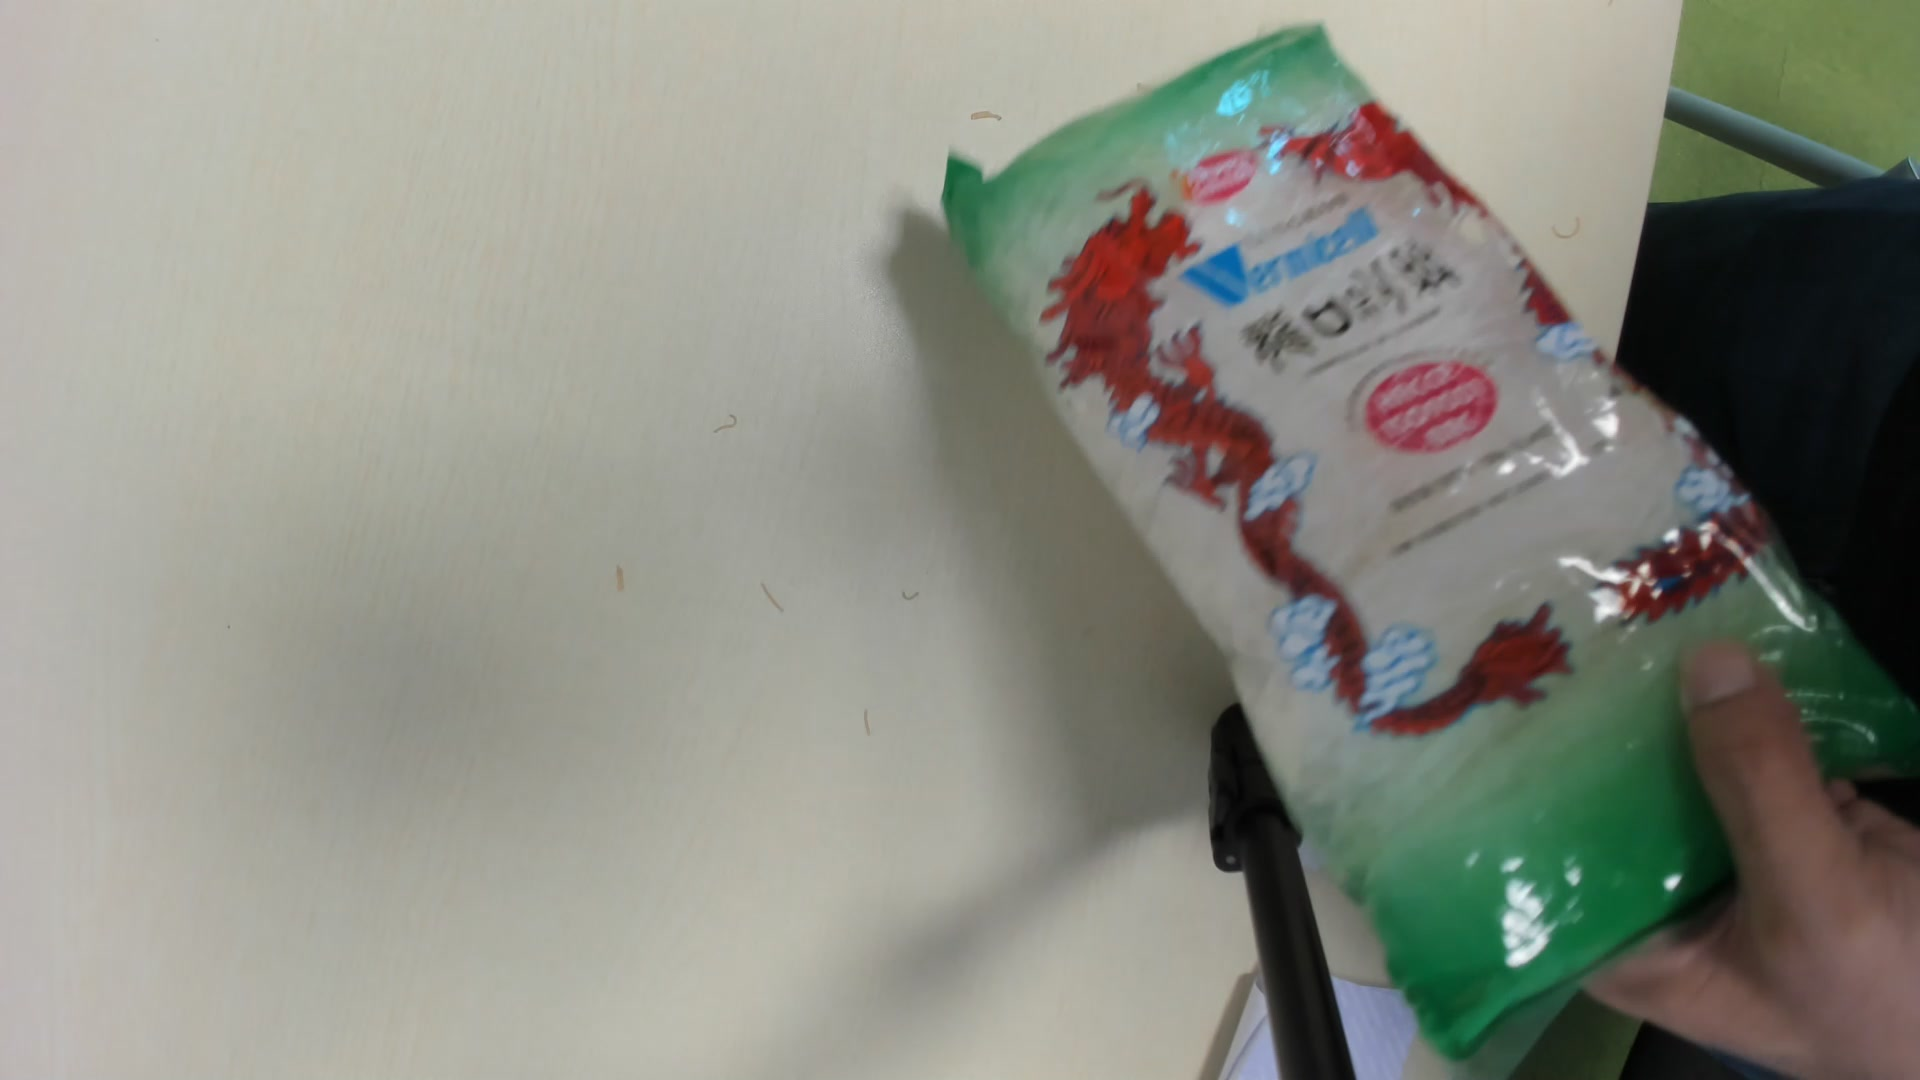BeeHoonVermicelli_200-299g_Halal_NonHealthy: (969, 8, 1920, 1047)
